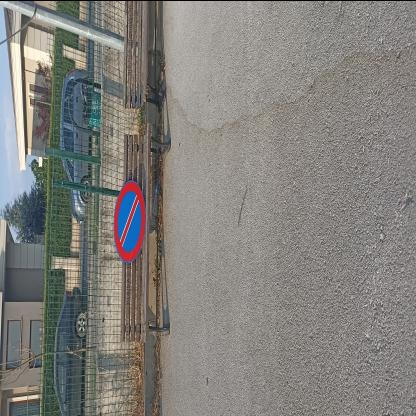No Waiting: (115, 180, 147, 264)
